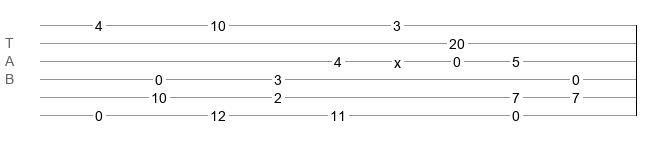0: (95, 108, 103, 118), (155, 72, 163, 82), (453, 54, 461, 64), (512, 108, 520, 118), (572, 72, 580, 82)
10: (151, 90, 167, 100), (210, 18, 226, 28)
11: (330, 108, 346, 118)
12: (210, 108, 226, 118)
2: (274, 90, 282, 100)
20: (449, 36, 465, 46)
3: (274, 72, 282, 82), (393, 18, 401, 28)
4: (95, 18, 103, 28), (334, 54, 342, 64)
5: (512, 54, 520, 64)
7: (512, 90, 520, 100), (572, 90, 580, 100)
x: (394, 55, 401, 63)
